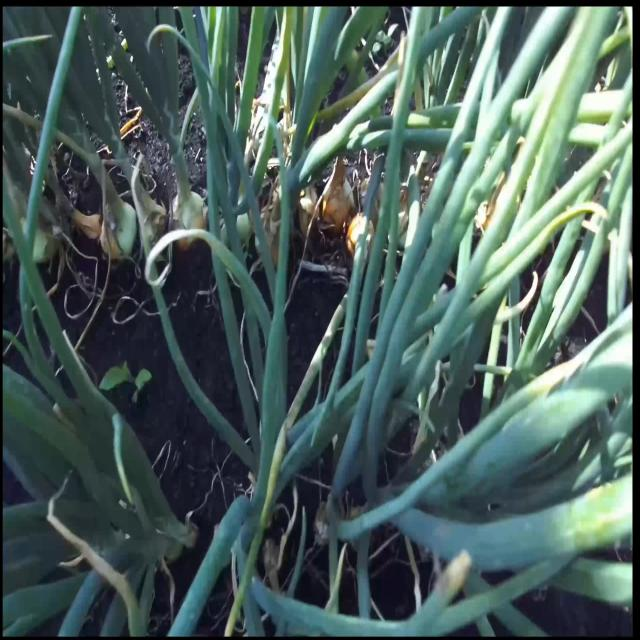onion: (96, 193, 135, 260), (170, 194, 204, 246)
